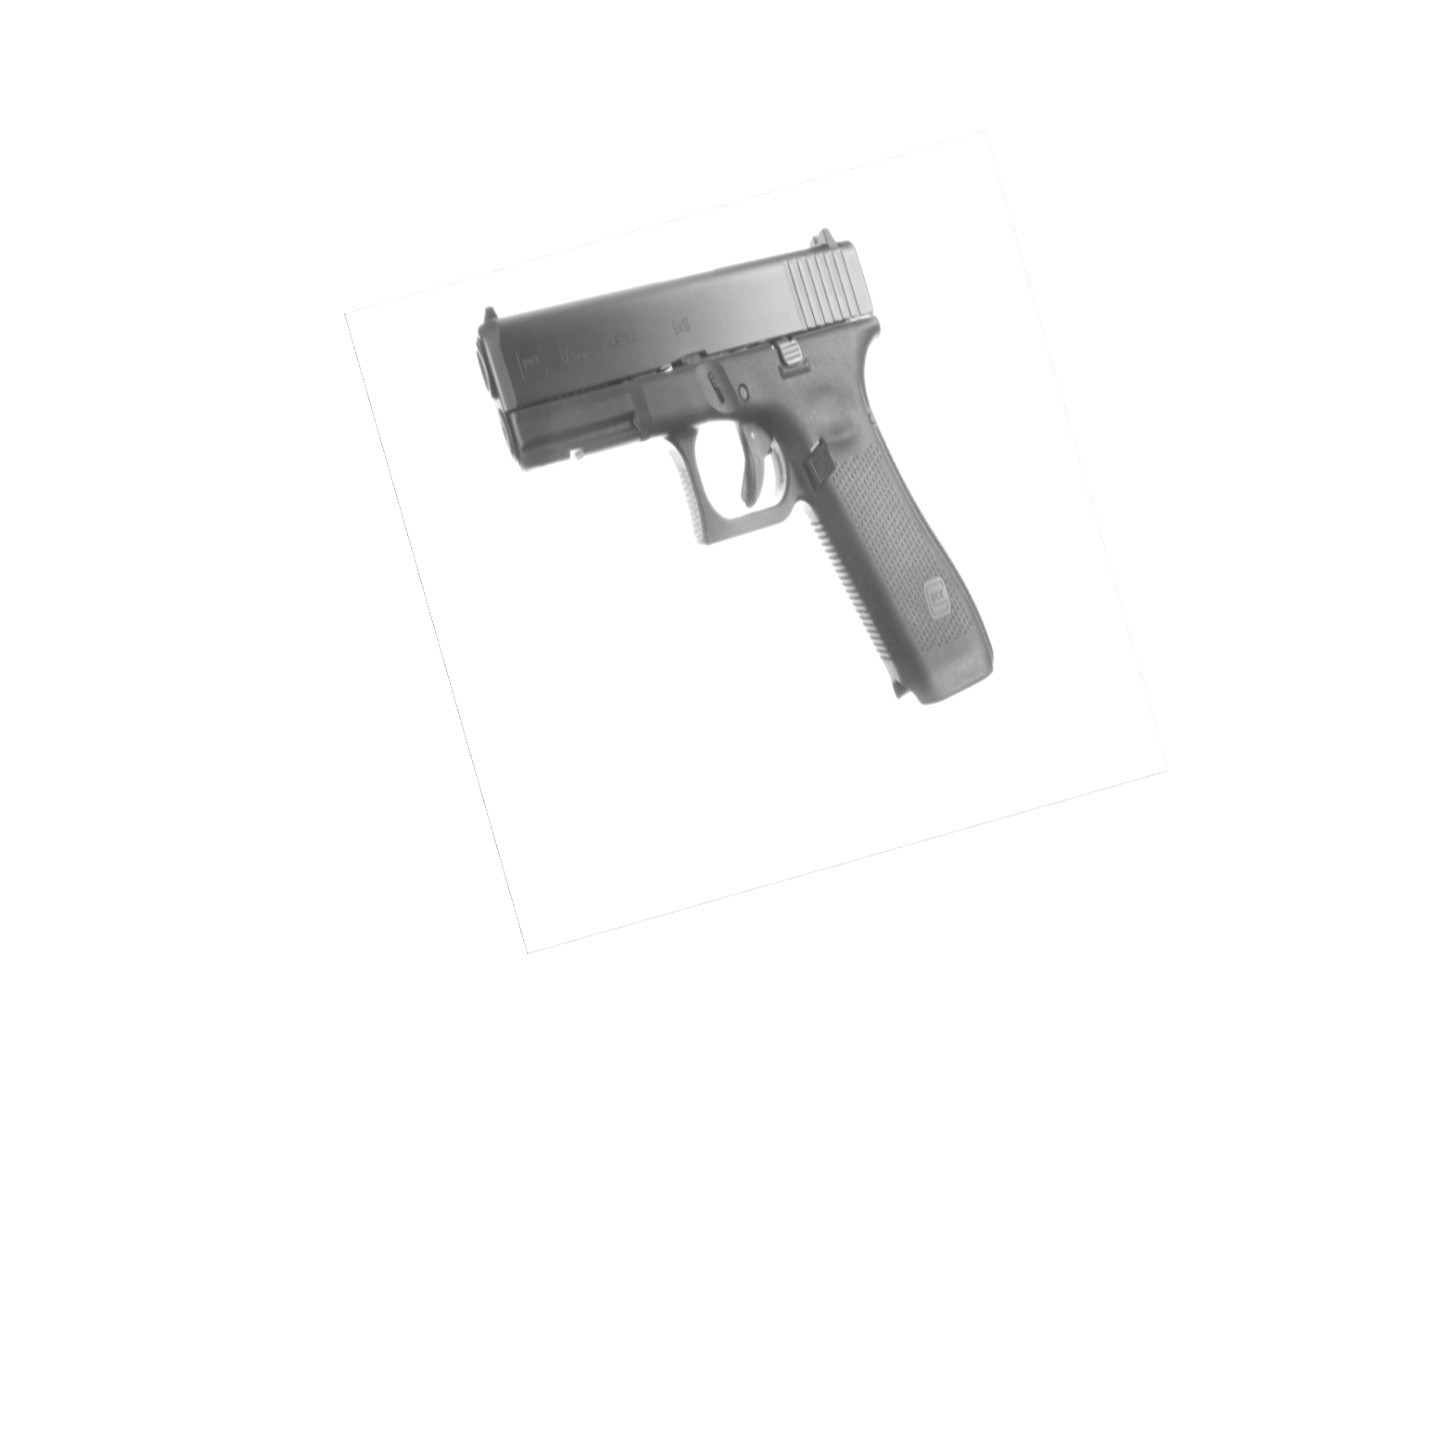gun: (475, 229, 996, 706)
